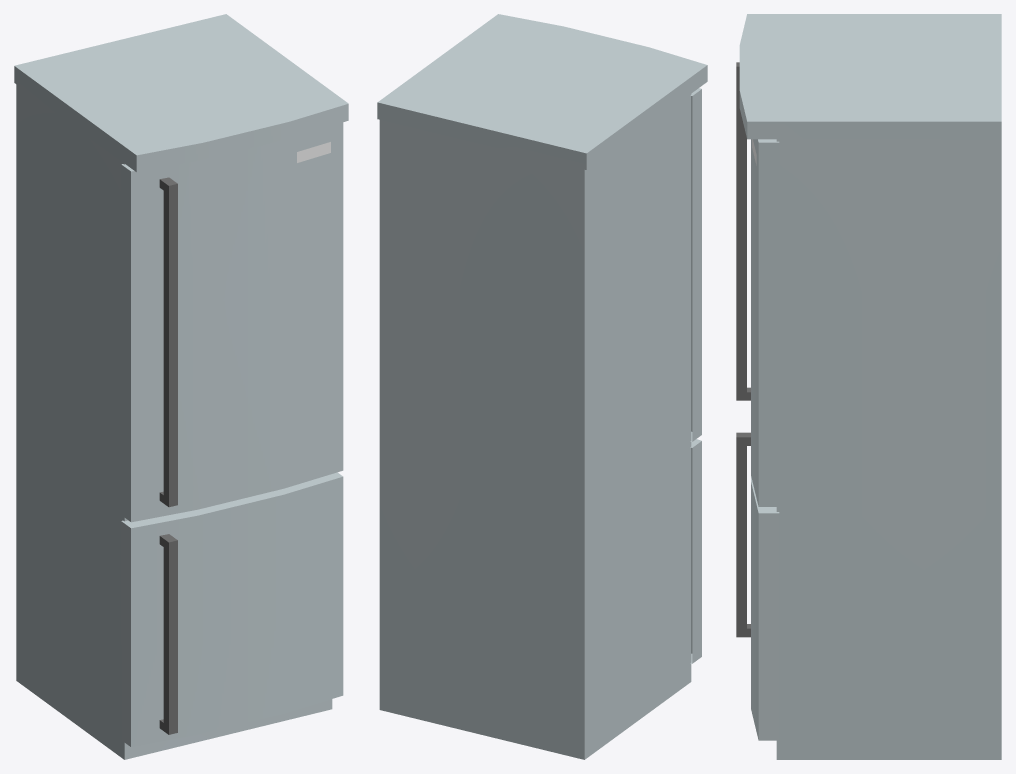
Rendered from frigorifero.glb.
3 views of the same model, side by side, from view 1: azimuth 30°, elevation 25°; view 2: azimuth 150°, elevation 25°; view 3: azimuth 270°, elevation 25° (orthographic). The views are drawn at different scales.
Parts seen in each view (by area): view 1: fridge_001; view 2: fridge_001; view 3: fridge_001.
Boxes of the visible parts, x1,y1,x2,y2 form: fridge_001: (14,14,348,759); fridge_001: (377,14,707,759); fridge_001: (736,14,1001,759).
Size of the model in its own units: 0.692 by 1.92 by 0.7215.
Materials: 1 (1 with a texture image).
